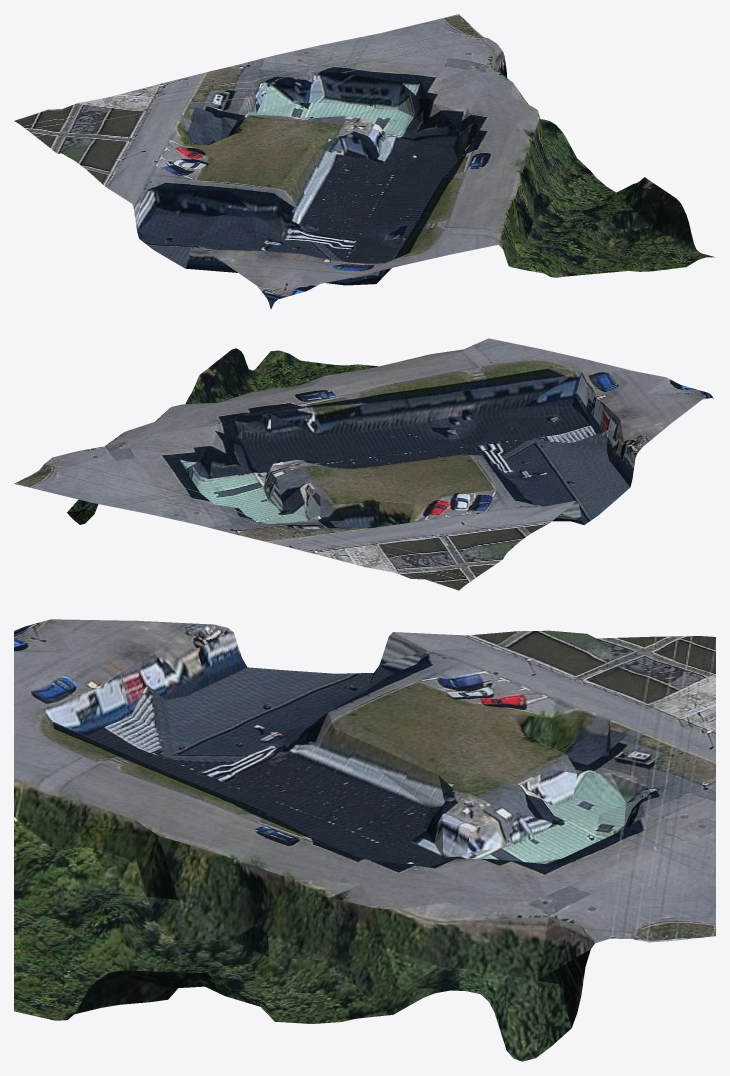
File: map_15_8181_13777.dae
3 renders of one model, top to bottom at view 1: azimuth 30°, elevation 25°; view 2: azimuth 150°, elevation 25°; view 3: azimuth 270°, elevation 25°, orthographic. The views are drawn at different scales.
Parts seen in each view (by area): view 1: Ter0; view 2: Ter0; view 3: Ter0.
Part boxes in pixels (box(x1,y1,x2,y2)): Ter0: box(14, 14, 714, 308); Ter0: box(14, 338, 713, 590); Ter0: box(14, 619, 715, 1061).
Bounding box in the file's own units: 63.87 × 63.88 × 14.65.
Materials: 3 (3 with a texture image).
